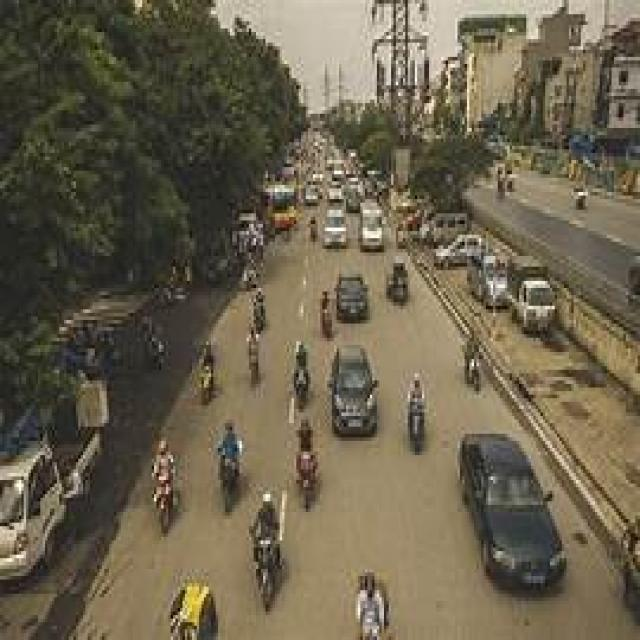Car: (460, 435, 566, 588), (0, 448, 65, 578), (329, 345, 377, 434), (336, 276, 364, 320)
Two Wheeler: (250, 491, 283, 610), (254, 523, 283, 610), (375, 598, 384, 625)
